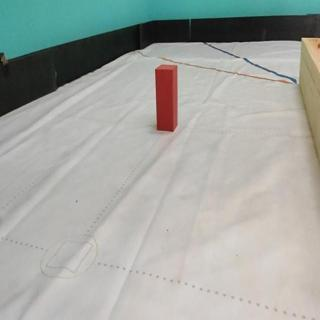redbox: (156, 63, 176, 131)
